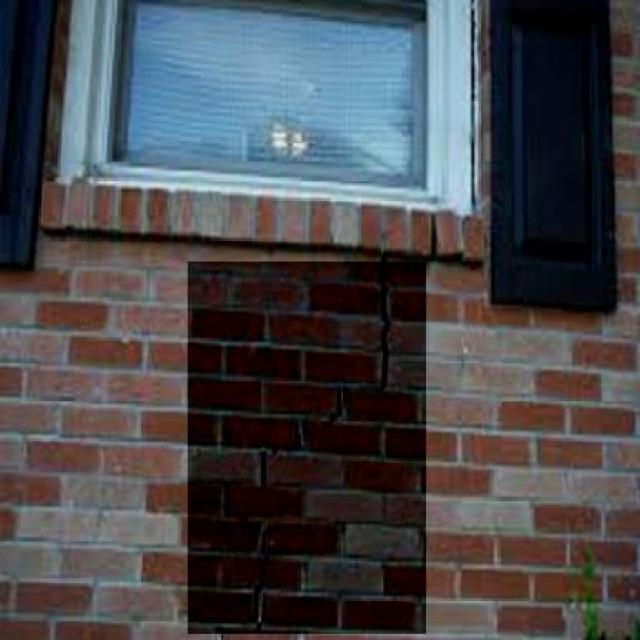Crack: (228, 372, 368, 634), (369, 238, 414, 389)
